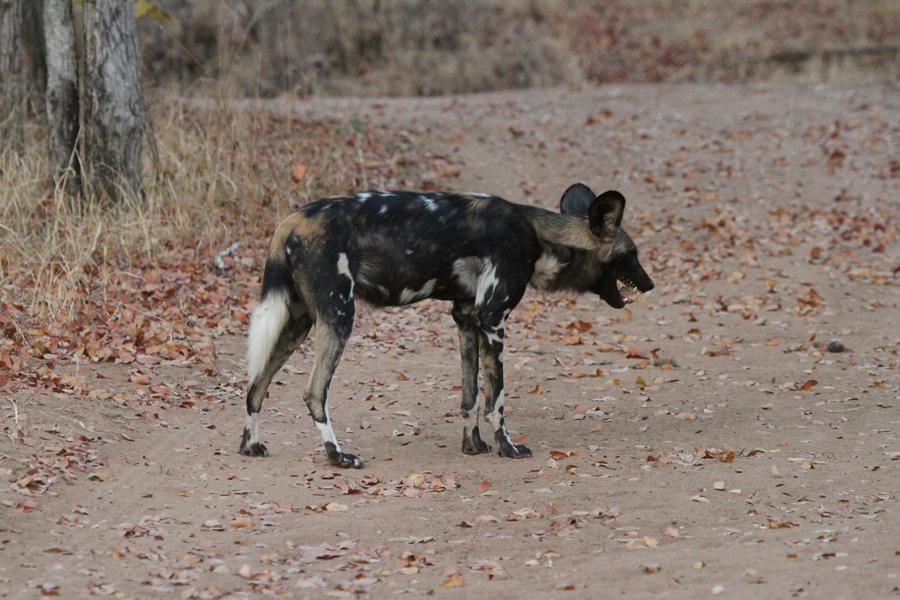wilddog: (254, 180, 647, 354)
